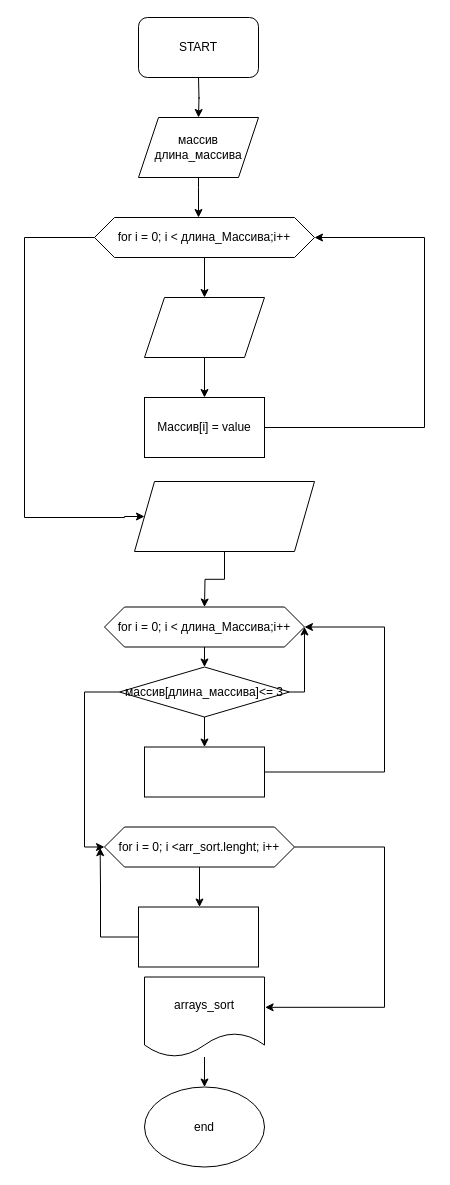
Some shapes in this 450 by 1185 pixel diagram are drawn without their labels. Each missing label, with the box of its shape:
arr_sort[i] = массив[counter[i]]: (138, 906, 258, 967)
counter[size++] = i: (144, 746, 264, 797)
int size string arr_sort[size] int counter[длина_массива]: (134, 480, 314, 552)
int value: (144, 296, 264, 358)
